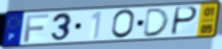1: (91, 11, 102, 40)
3: (50, 12, 73, 43)
D: (141, 7, 171, 38)
F: (23, 13, 51, 43)
O: (110, 8, 137, 40)
P: (169, 6, 199, 37)
